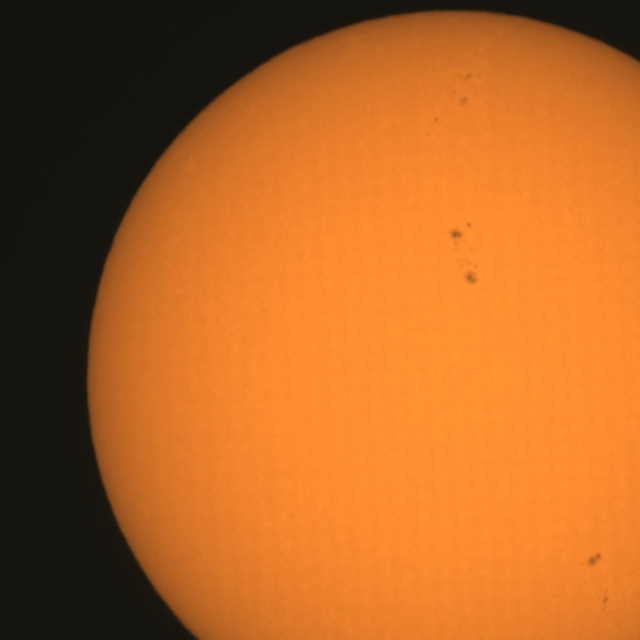sunspot: (448, 220, 477, 258), (461, 260, 481, 288), (585, 551, 604, 569), (425, 116, 440, 137), (459, 71, 482, 84), (456, 94, 470, 109), (430, 116, 440, 128), (601, 594, 610, 606), (425, 129, 432, 138), (434, 116, 440, 123)
